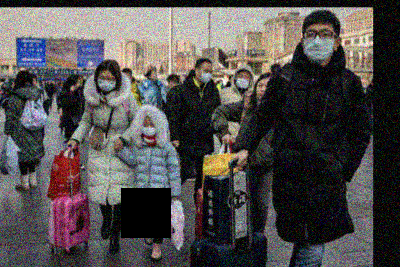with_mask: (303, 27, 335, 63), (96, 74, 116, 90), (234, 72, 250, 89), (198, 67, 213, 83), (140, 121, 156, 135)
without_mask: (255, 82, 268, 99), (74, 80, 81, 89), (151, 71, 158, 79)
